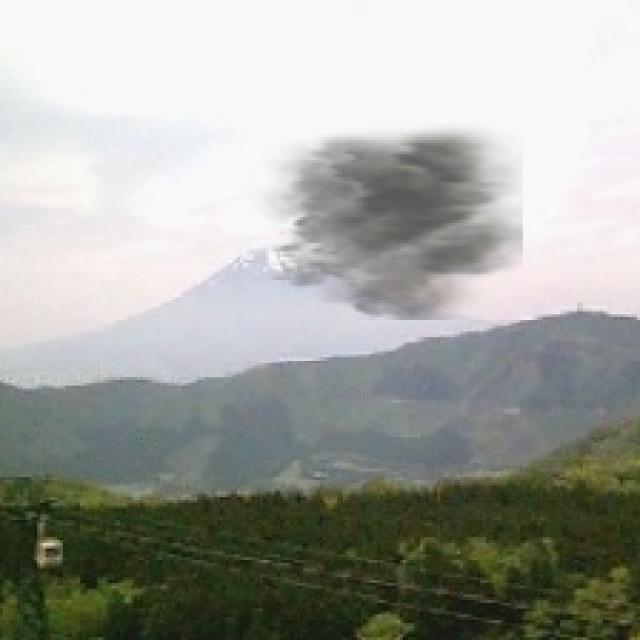Smoke: (243, 120, 523, 320)
